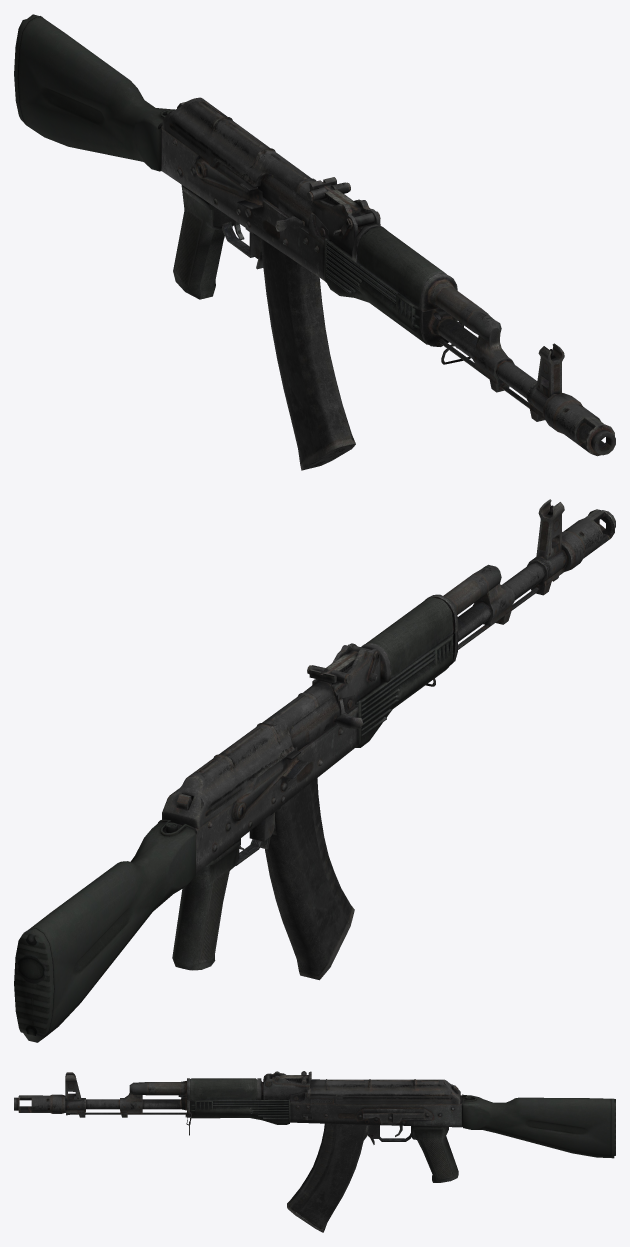
The picture shows the model from 3 angles, top to bottom: view 1: azimuth 30°, elevation 25°; view 2: azimuth 150°, elevation 25°; view 3: azimuth 270°, elevation 25°; orthographic projection. The views are drawn at different scales.
Visible parts, largest first — view 1: ak74m_2, ak74m_1; view 2: ak74m_2, ak74m_1; view 3: ak74m_2, ak74m_1.
Boxes of the visible parts, <box> form: ak74m_2: <box>161,97,615,470</box>; ak74m_1: <box>14,14,445,344</box>; ak74m_2: <box>162,499,615,980</box>; ak74m_1: <box>14,597,453,1042</box>; ak74m_2: <box>14,1071,462,1232</box>; ak74m_1: <box>190,1078,615,1158</box>.
Bounding box in the file's own units: 54.78 × 201 × 702.
2 materials, 2 textured.
